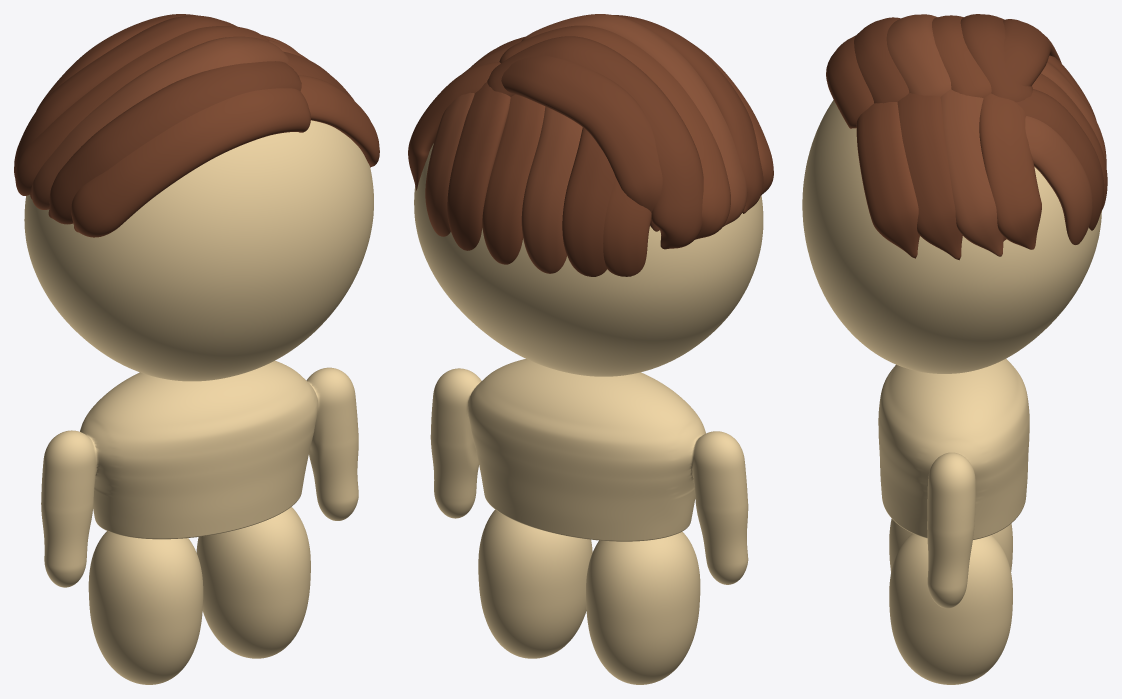
The model's file is Masculine-base.glb.
3 views of the same model, side by side, from view 1: azimuth 30°, elevation 25°; view 2: azimuth 150°, elevation 25°; view 3: azimuth 270°, elevation 25° (orthographic).
Visible parts, largest first — view 1: Skin / soft oval head, Skin / rounded torso, Skin / leg blob -1, Skin / leg blob 1, Hair / Side part main 0, Hair / Side part main 1, Hair / Side part main 2, Hair / Side part main 3, Hair / Side part main 4, Hair / Side part short 0, Hair / Side part crown, Hair / Side part short 1; view 2: Skin / rounded torso, Skin / soft oval head, Skin / leg blob -1, Skin / leg blob 1, Hair / Side part crown, Hair / Side part main 4, Hair / Side part nape 2, Hair / Side part main 3, Hair / Side part nape 3, Hair / Side part nape 4, Hair / Side part main 2, Hair / Side part nape 1 (+5 smaller); view 3: Skin / soft oval head, Skin / rounded torso, Skin / leg blob 1, Hair / Side part short 3, Hair / Side part short 0, Hair / Side part short 1, Hair / Side part short 2, Hair / Side part nape 5, Hair / Side part main 2, Hair / Side part nape 4, Hair / Side part main 4, Hair / Side part main 1 (+6 smaller).
Part boxes in pixels (x1=…): Skin / soft oval head: x1=24, y1=120, x2=373, y2=381; Skin / rounded torso: x1=41, y1=360, x2=358, y2=587; Skin / leg blob -1: x1=88, y1=531, x2=203, y2=684; Skin / leg blob 1: x1=196, y1=507, x2=310, y2=658; Hair / Side part main 0: x1=71, y1=88, x2=310, y2=237; Hair / Side part main 1: x1=48, y1=61, x2=301, y2=224; Hair / Side part main 2: x1=31, y1=36, x2=288, y2=209; Hair / Side part main 3: x1=15, y1=26, x2=269, y2=195; Hair / Side part main 4: x1=14, y1=15, x2=236, y2=177; Hair / Side part short 0: x1=298, y1=75, x2=379, y2=167; Hair / Side part crown: x1=36, y1=14, x2=197, y2=110; Hair / Side part short 1: x1=283, y1=51, x2=354, y2=100; Skin / rounded torso: x1=430, y1=359, x2=748, y2=584; Skin / soft oval head: x1=414, y1=143, x2=763, y2=376; Skin / leg blob -1: x1=586, y1=531, x2=700, y2=684; Skin / leg blob 1: x1=478, y1=509, x2=592, y2=658; Hair / Side part crown: x1=501, y1=55, x2=662, y2=231; Hair / Side part main 4: x1=487, y1=36, x2=703, y2=249; Hair / Side part nape 2: x1=521, y1=106, x2=582, y2=273; Hair / Side part main 3: x1=499, y1=25, x2=730, y2=239; Hair / Side part nape 3: x1=482, y1=94, x2=545, y2=264; Hair / Side part nape 4: x1=447, y1=82, x2=510, y2=250; Hair / Side part main 2: x1=521, y1=14, x2=747, y2=226; Hair / Side part nape 1: x1=562, y1=127, x2=615, y2=276; Skin / soft oval head: x1=802, y1=100, x2=1101, y2=373; Skin / rounded torso: x1=878, y1=359, x2=1029, y2=608; Skin / leg blob 1: x1=889, y1=533, x2=1012, y2=684; Hair / Side part short 3: x1=979, y1=93, x2=1041, y2=249; Hair / Side part short 0: x1=856, y1=102, x2=919, y2=258; Hair / Side part short 1: x1=897, y1=93, x2=962, y2=260; Hair / Side part short 2: x1=940, y1=89, x2=1003, y2=256; Hair / Side part nape 5: x1=1025, y1=116, x2=1092, y2=244; Hair / Side part main 2: x1=886, y1=14, x2=951, y2=96; Hair / Side part nape 4: x1=1016, y1=89, x2=1104, y2=230; Hair / Side part main 4: x1=960, y1=14, x2=1032, y2=102; Hair / Side part main 1: x1=854, y1=17, x2=909, y2=103.
Size of the model in its own units: 0.9754 by 1.87 by 0.825.
